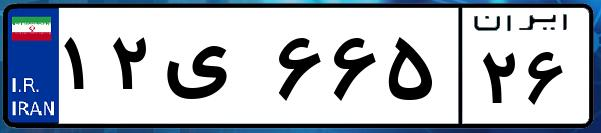1: (57, 26, 110, 100)
2: (475, 38, 525, 113), (110, 28, 158, 98)
5: (385, 28, 445, 110)
6: (270, 28, 330, 110), (330, 28, 385, 110), (525, 38, 570, 115)
ی: (158, 20, 270, 120)
